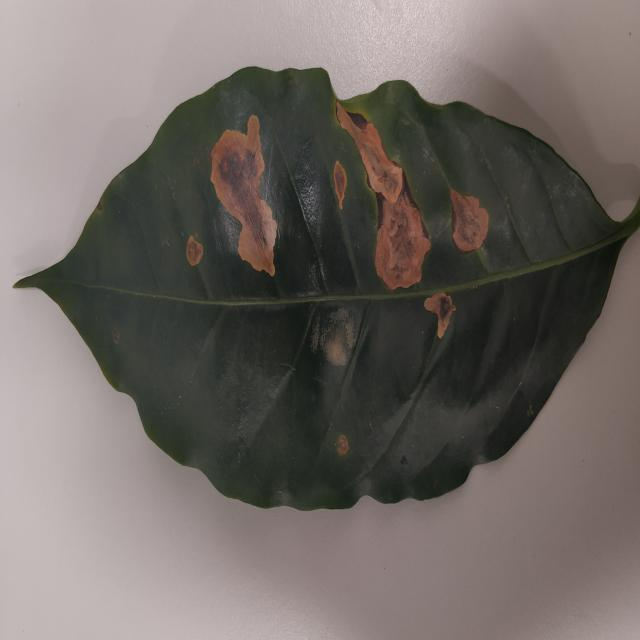Plaga-Minador: (19, 68, 640, 514)
